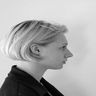ear: (24, 39, 48, 60)
